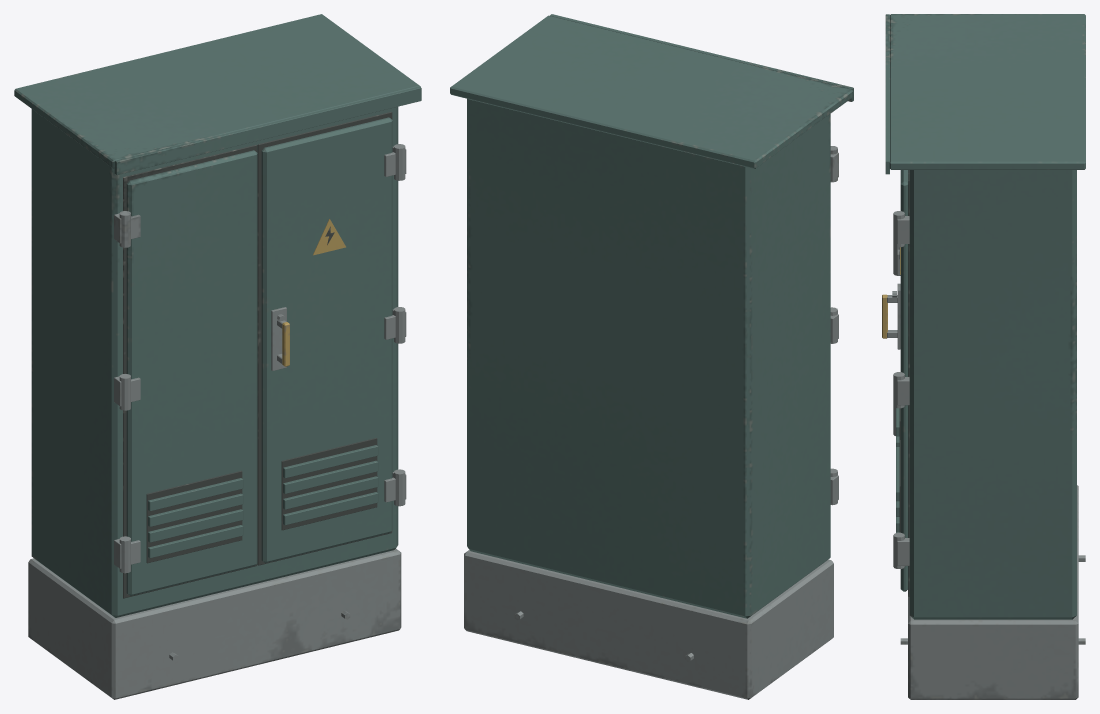
Rendered from electrical_cabinet_large.glb.
3 renders of one model, left to right at view 1: azimuth 30°, elevation 25°; view 2: azimuth 150°, elevation 25°; view 3: azimuth 270°, elevation 25°, orthographic.
Parts seen in each view (by area): view 1: ElectricalCabinetLarge; view 2: ElectricalCabinetLarge; view 3: ElectricalCabinetLarge.
Part boxes in pixels (x1,y1,x2,y2): ElectricalCabinetLarge: [14, 14, 421, 699]; ElectricalCabinetLarge: [450, 14, 853, 699]; ElectricalCabinetLarge: [882, 14, 1085, 699].
Size of what is drawn, in the model's own units: 0.97 by 1.65 by 0.561.
1 material, 1 textured.
